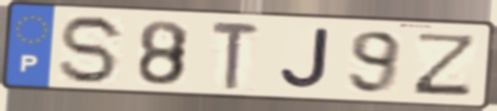8: (137, 19, 192, 88)
9: (345, 28, 405, 95)
J: (277, 26, 332, 92)
S: (57, 13, 128, 86)
T: (208, 19, 263, 92)
Z: (408, 30, 481, 97)
